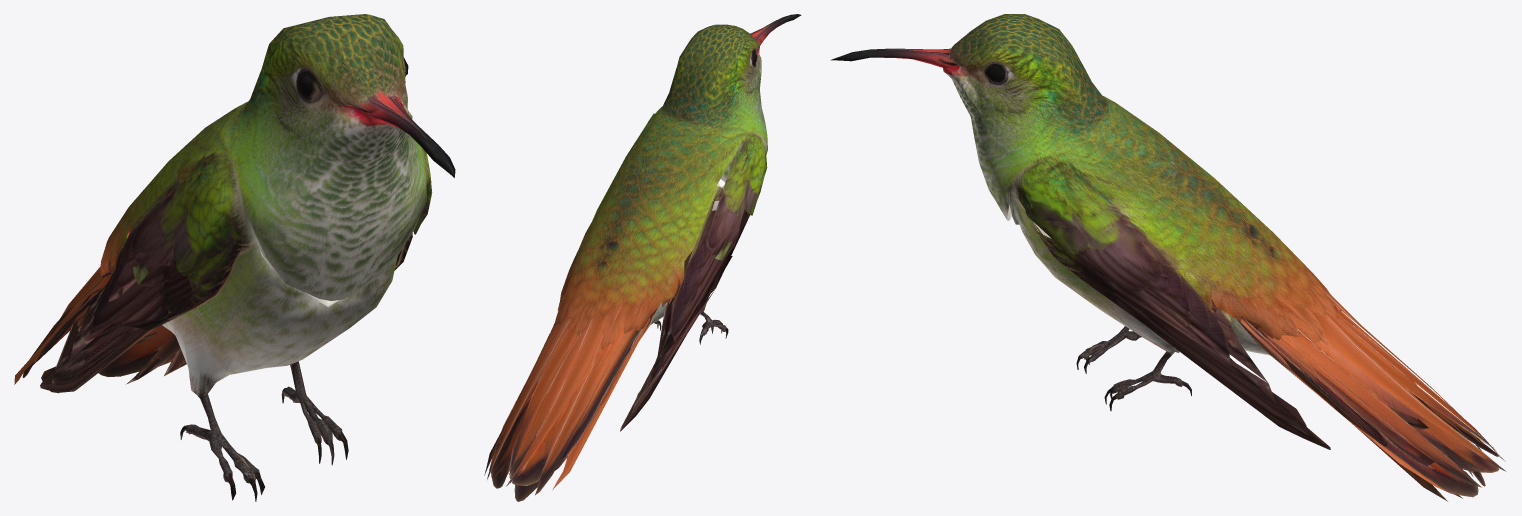
Rendered from Meshy_AI_Hummingbird_SmartTopo_1012033623_texture.glb.
3 views of the same model, side by side, from view 1: azimuth 30°, elevation 25°; view 2: azimuth 150°, elevation 25°; view 3: azimuth 270°, elevation 25° (orthographic). The views are drawn at different scales.
Size of the model in its own units: 0.2939 by 0.7012 by 0.9575.
Materials: 1 (1 with a texture image).
